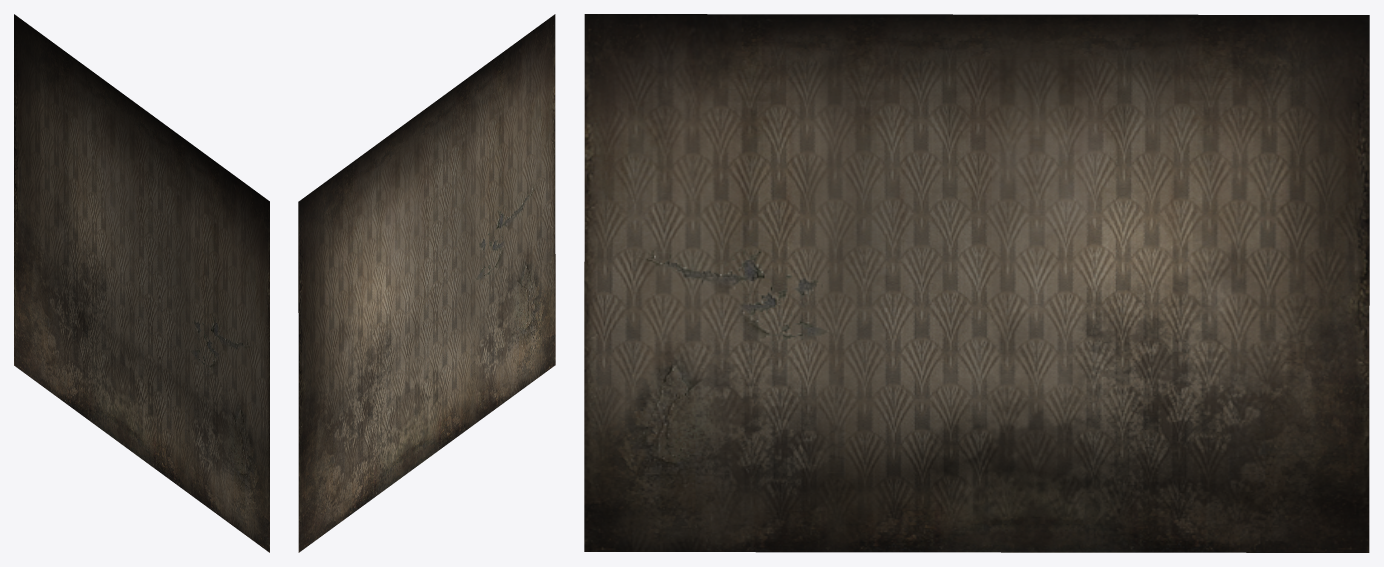
Rendered from Room4.obj.
The picture shows the model from 3 angles, left to right: view 1: azimuth 30°, elevation 25°; view 2: azimuth 150°, elevation 25°; view 3: azimuth 270°, elevation 25°; orthographic projection. The views are drawn at different scales.
Visible parts, largest first — view 1: Room4; view 2: Room4; view 3: Room4.
Part boxes in pixels (x1=…): Room4: x1=14, y1=14, x2=269, y2=552; Room4: x1=298, y1=14, x2=555, y2=552; Room4: x1=584, y1=14, x2=1369, y2=552.
Size of the model in its own units: 0.0608 by 25.53 by 33.74.
